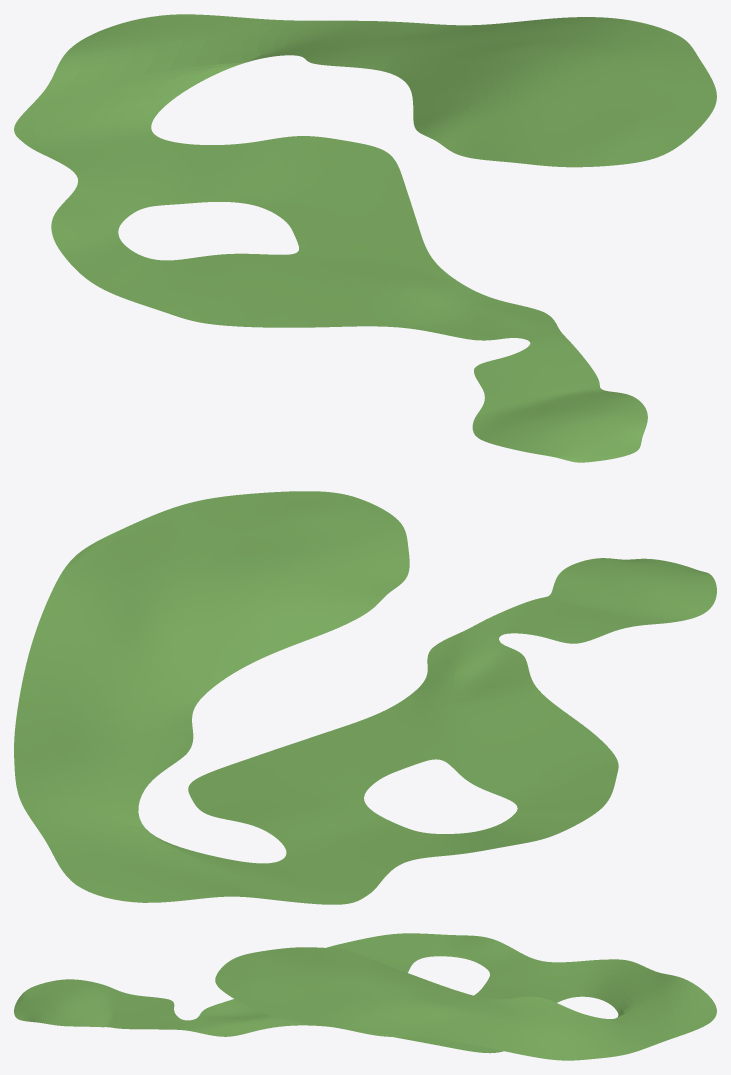
The model's file is lvl1grass_hill.fbx.
The picture shows the model from 3 angles, top to bottom: view 1: azimuth 30°, elevation 25°; view 2: azimuth 150°, elevation 25°; view 3: azimuth 270°, elevation 25°; orthographic projection. The views are drawn at different scales.
Parts seen in each view (by area): view 1: grass_hill; view 2: grass_hill; view 3: grass_hill.
Boxes of the visible parts, <box> form: grass_hill: <box>14,14,716,462</box>; grass_hill: <box>14,491,716,904</box>; grass_hill: <box>14,933,716,1060</box>.
Bounding box in the file's own units: 2432 × 572 × 4000.
